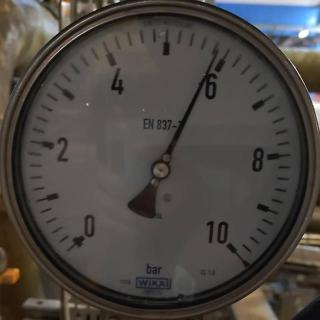gauge: (0, 0, 320, 320), (198, 218, 248, 268), (58, 211, 104, 261), (149, 159, 171, 181), (209, 44, 223, 60)
